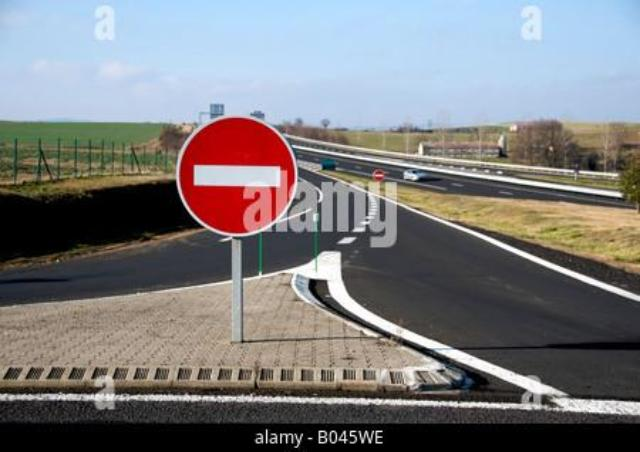B2: (174, 114, 298, 238)
